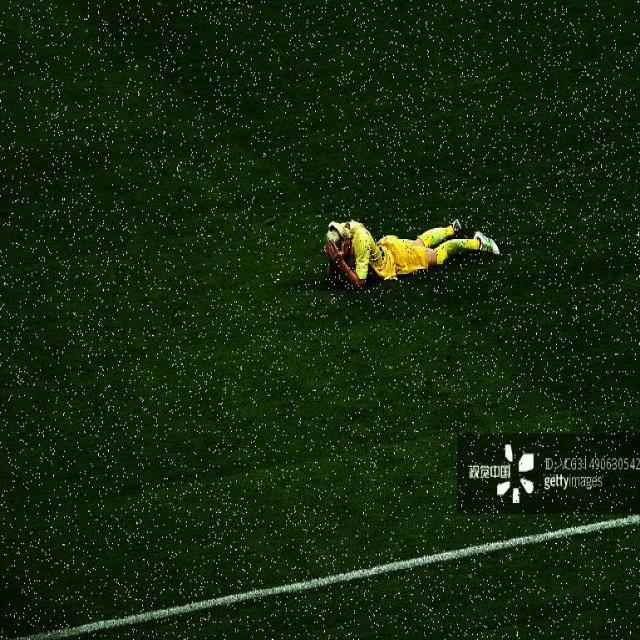fall: (318, 210, 502, 284)
